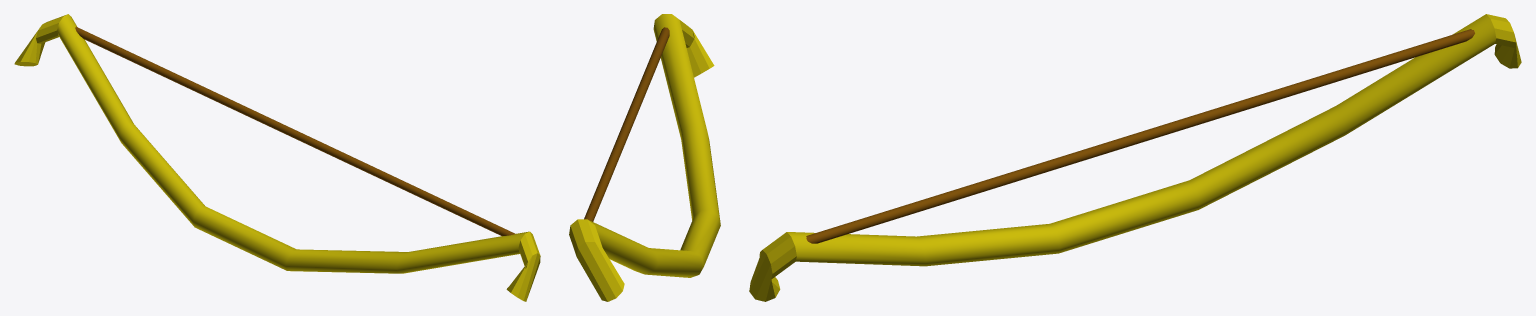
Rendered from Bow.FBX.
3 views of the same model, side by side, from view 1: azimuth 30°, elevation 25°; view 2: azimuth 150°, elevation 25°; view 3: azimuth 270°, elevation 25° (orthographic). The views are drawn at different scales.
Visible parts, largest first — view 1: Bow; view 2: Bow; view 3: Bow.
Part boxes in pixels (<box>): Bow: <box>14,14,540,301</box>; Bow: <box>569,14,720,301</box>; Bow: <box>749,14,1521,301</box>.
Bounding box in the file's own units: 4.4 × 9.1 × 2.57.
